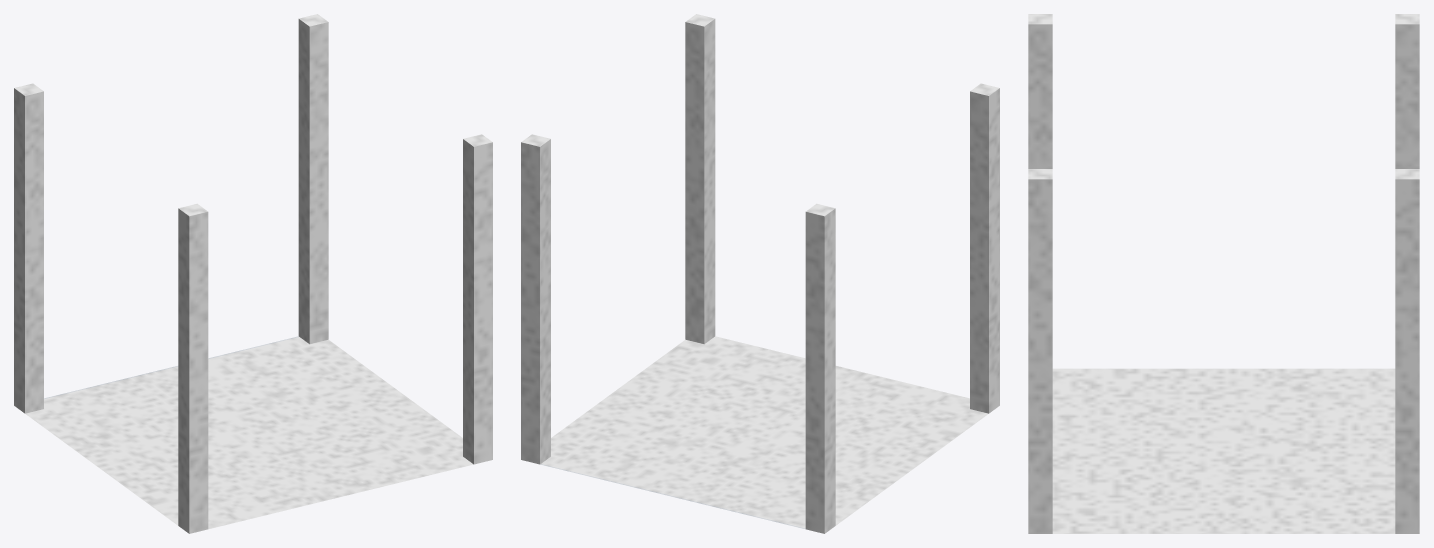
Rendered from hallWide4way.fbx.
3 views of the same model, side by side, from view 1: azimuth 30°, elevation 25°; view 2: azimuth 150°, elevation 25°; view 3: azimuth 270°, elevation 25° (orthographic). The views are drawn at different scales.
Parts seen in each view (by area): view 1: WideHall4Way1; view 2: WideHall4Way1; view 3: WideHall4Way1.
Boxes of the visible parts, x1,y1,x2,y2 form: WideHall4Way1: [14, 14, 492, 533]; WideHall4Way1: [521, 14, 999, 533]; WideHall4Way1: [1028, 14, 1419, 533].
Bounding box in the file's own units: 4 × 4 × 4.
